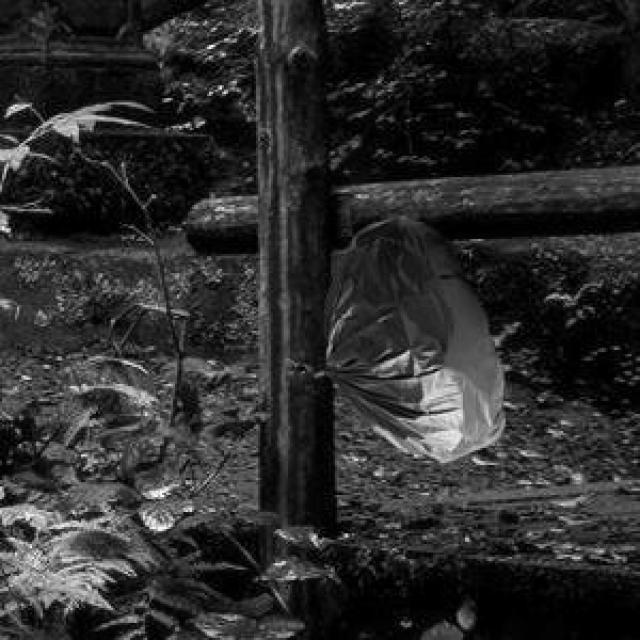miscellaneous trash: (282, 213, 499, 459)
